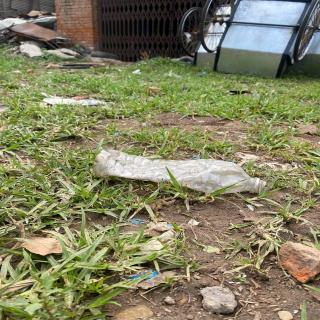Plastic-bottle: (91, 146, 270, 200)
